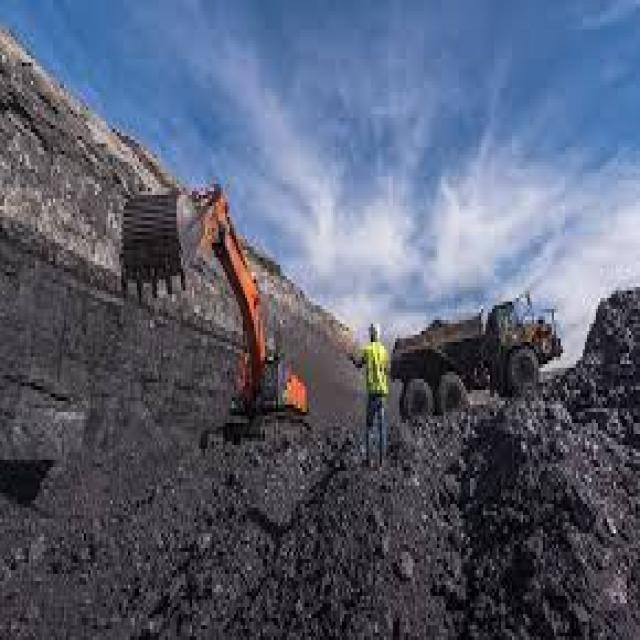dump_truck: (390, 273, 582, 442)
excavator: (115, 158, 329, 460)
